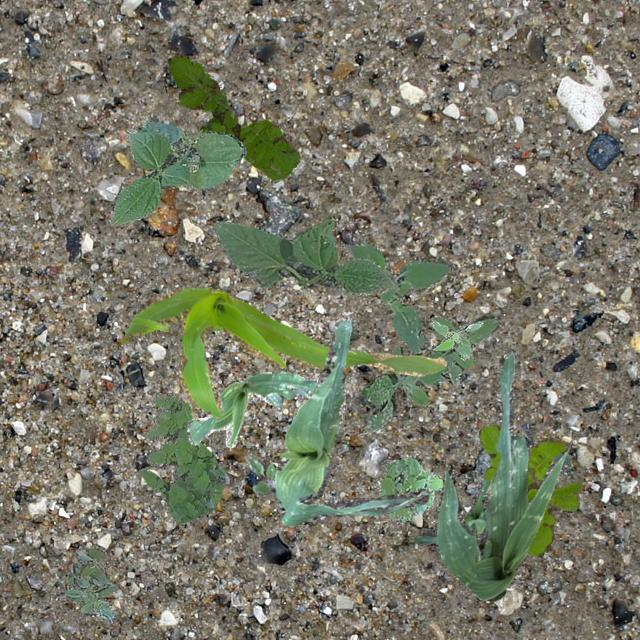crop: (120, 284, 446, 416), (436, 348, 568, 600), (274, 310, 428, 524), (108, 120, 245, 224), (212, 218, 394, 294), (186, 371, 316, 448), (414, 478, 488, 544)
weed: (346, 241, 499, 434), (166, 49, 298, 180), (478, 424, 582, 556), (140, 392, 223, 522), (378, 456, 442, 524), (65, 544, 116, 622), (430, 320, 482, 360), (246, 456, 274, 496)
